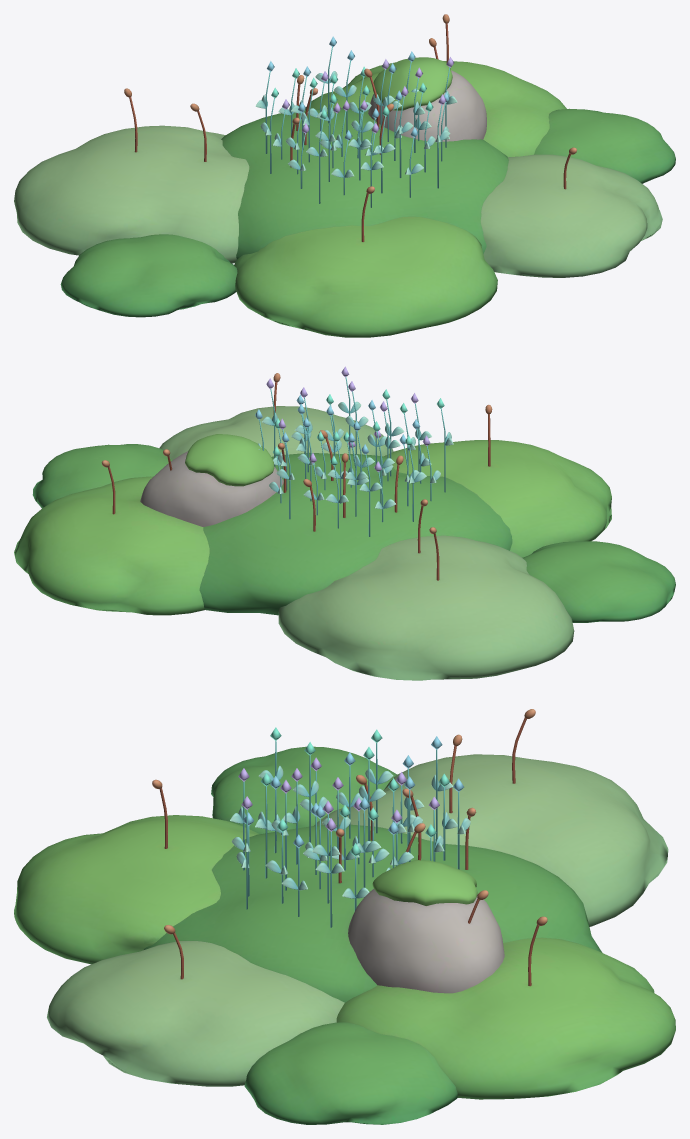
Rendered from enchanted-auroramoss.glb.
The picture shows the model from 3 angles, top to bottom: view 1: azimuth 30°, elevation 25°; view 2: azimuth 150°, elevation 25°; view 3: azimuth 270°, elevation 25°; orthographic projection. The views are drawn at different scales.
Parts seen in each view (by area): view 1: moss-patch_body, enchanted-auroramoss-sculpted-details; view 2: moss-patch_body, enchanted-auroramoss-sculpted-details; view 3: moss-patch_body, enchanted-auroramoss-sculpted-details.
Part boxes in pixels (box(x1,y1,x2,y2)): moss-patch_body: box(14, 14, 675, 337); enchanted-auroramoss-sculpted-details: box(255, 36, 457, 207); moss-patch_body: box(14, 373, 675, 680); enchanted-auroramoss-sculpted-details: box(255, 366, 453, 536); moss-patch_body: box(14, 709, 675, 1124); enchanted-auroramoss-sculpted-details: box(230, 727, 470, 927).
Size of the model in its own units: 4.42 by 1 by 3.38.
Materials: 2 (1 with a texture image).
